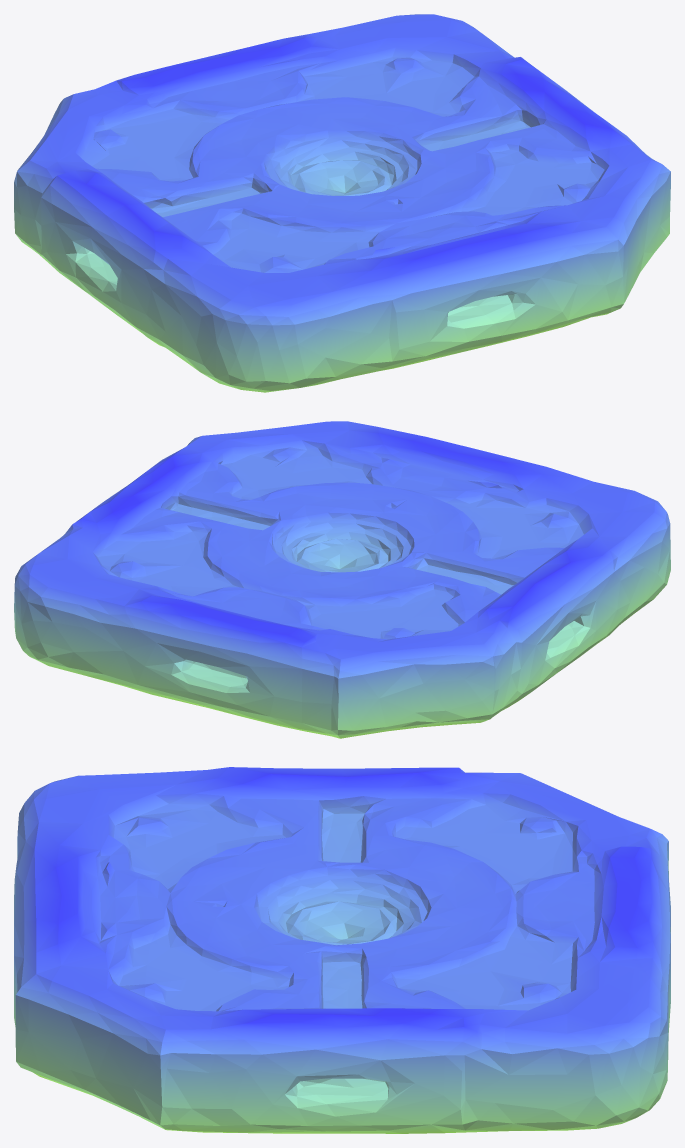
File: 49_cyb_laser_gradient_fish_scales_2871_2026_10_03_3cfc6c.glb
The picture shows the model from 3 angles, top to bottom: view 1: azimuth 30°, elevation 25°; view 2: azimuth 150°, elevation 25°; view 3: azimuth 270°, elevation 25°; orthographic projection. The views are drawn at different scales.
Visible parts, largest first — view 1: geometry_0; view 2: geometry_0; view 3: geometry_0.
Part boxes in pixels (left/top/right/bottom): geometry_0: left=14, top=14, right=670, bottom=392; geometry_0: left=14, top=421, right=670, bottom=738; geometry_0: left=14, top=767, right=670, bottom=1133.
Bounding box in the file's own units: 1 × 0.185 × 1.
